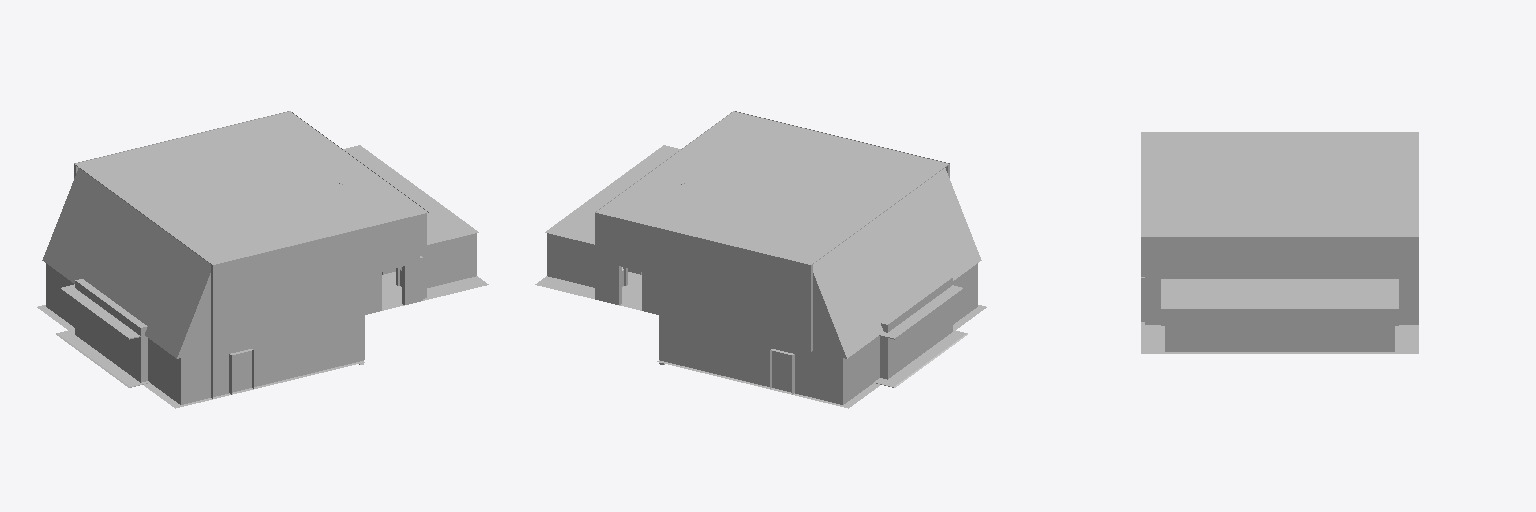
Rendered from LC_room2_hall.obj.
3 renders of one model, left to right at view 1: azimuth 30°, elevation 25°; view 2: azimuth 150°, elevation 25°; view 3: azimuth 270°, elevation 25°, orthographic.
Parts seen in each view (by area): view 1: LC_room2_hall; view 2: LC_room2_hall; view 3: LC_room2_hall.
Part boxes in pixels (bbox=[...]): LC_room2_hall: bbox=[37, 111, 488, 408]; LC_room2_hall: bbox=[535, 111, 986, 408]; LC_room2_hall: bbox=[1141, 132, 1418, 353].
Size of the model in its own units: 27.88 by 11.24 by 20.48.